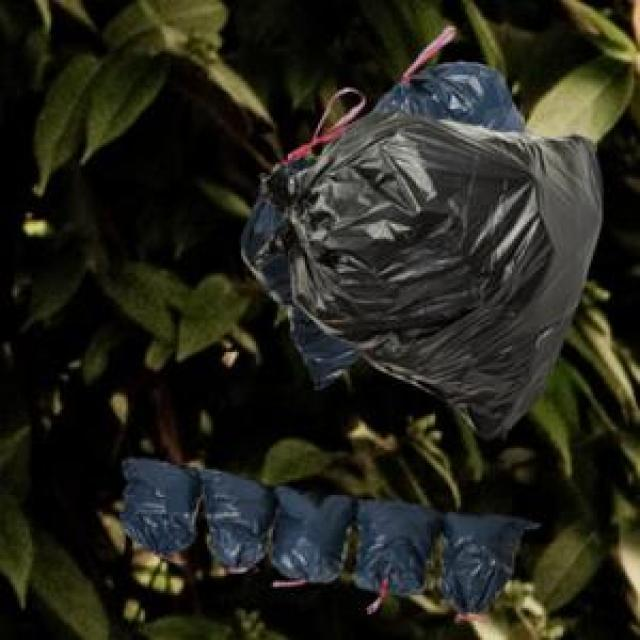waste: (242, 62, 601, 437), (121, 460, 529, 612)
